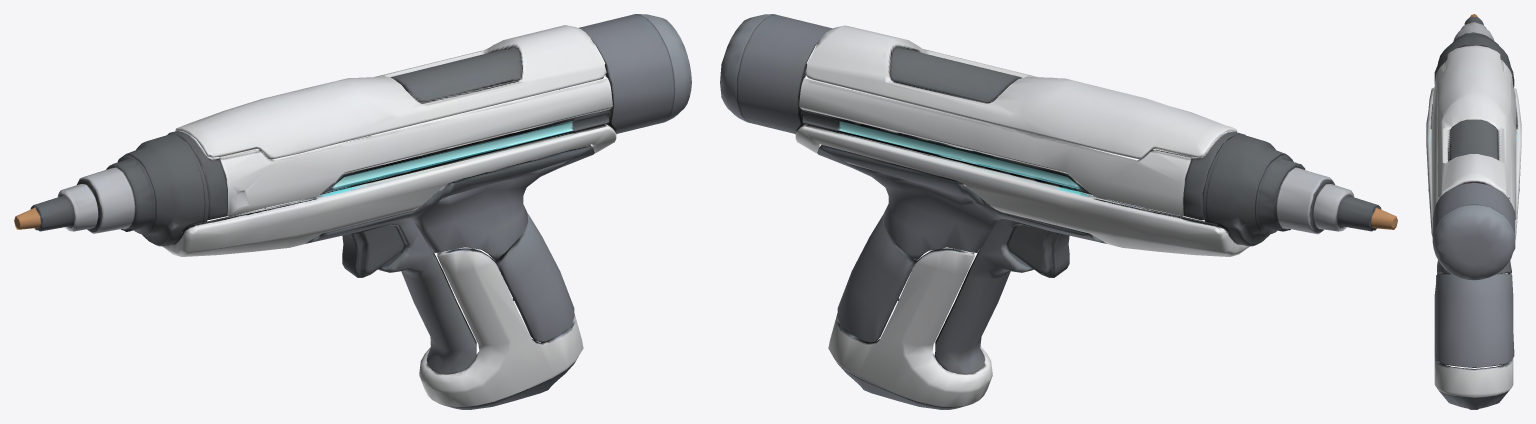
Rendered from selected.glb.
3 views of the same model, side by side, from view 1: azimuth 30°, elevation 25°; view 2: azimuth 150°, elevation 25°; view 3: azimuth 270°, elevation 25° (orthographic). The views are drawn at different scales.
Parts seen in each view (by area): view 1: tripo_node_0717299f-df11-4ab9-998e-cd0561135b23; view 2: tripo_node_0717299f-df11-4ab9-998e-cd0561135b23; view 3: tripo_node_0717299f-df11-4ab9-998e-cd0561135b23.
Boxes of the visible parts, left/top/right/bottom form: tripo_node_0717299f-df11-4ab9-998e-cd0561135b23: left=14, top=14, right=691, bottom=409; tripo_node_0717299f-df11-4ab9-998e-cd0561135b23: left=720, top=14, right=1397, bottom=409; tripo_node_0717299f-df11-4ab9-998e-cd0561135b23: left=1426, top=14, right=1521, bottom=409.
Size of the model in its own units: 0.998 by 0.502 by 0.1738.
Materials: 1 (1 with a texture image).
